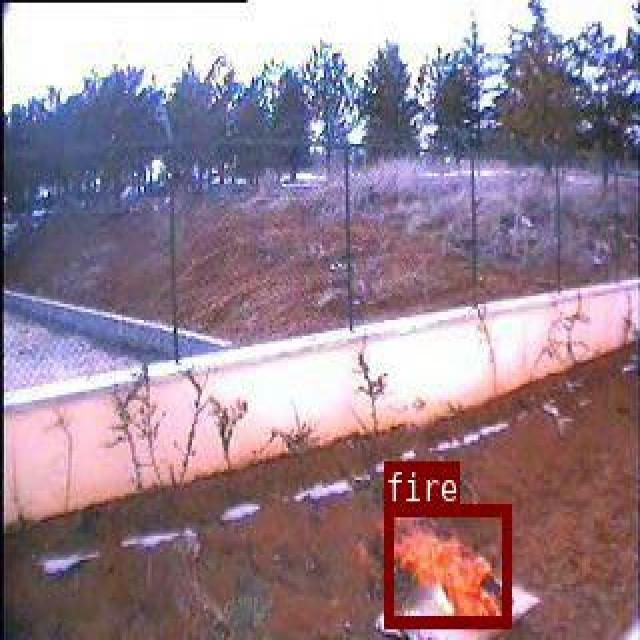fire: (384, 503, 509, 627)
